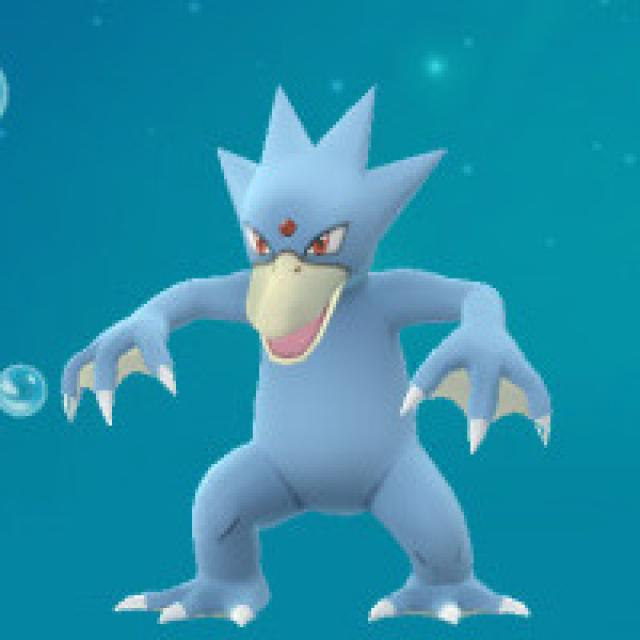Golduck: (111, 164, 497, 560)
